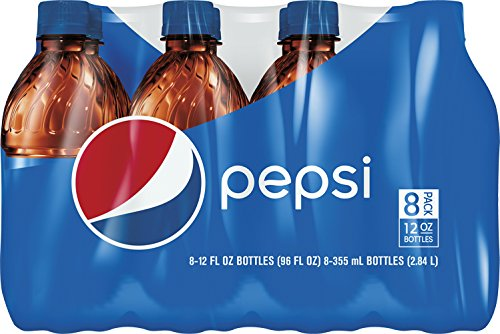pepsi: (72, 117, 201, 247), (81, 117, 201, 247), (81, 119, 201, 247)
